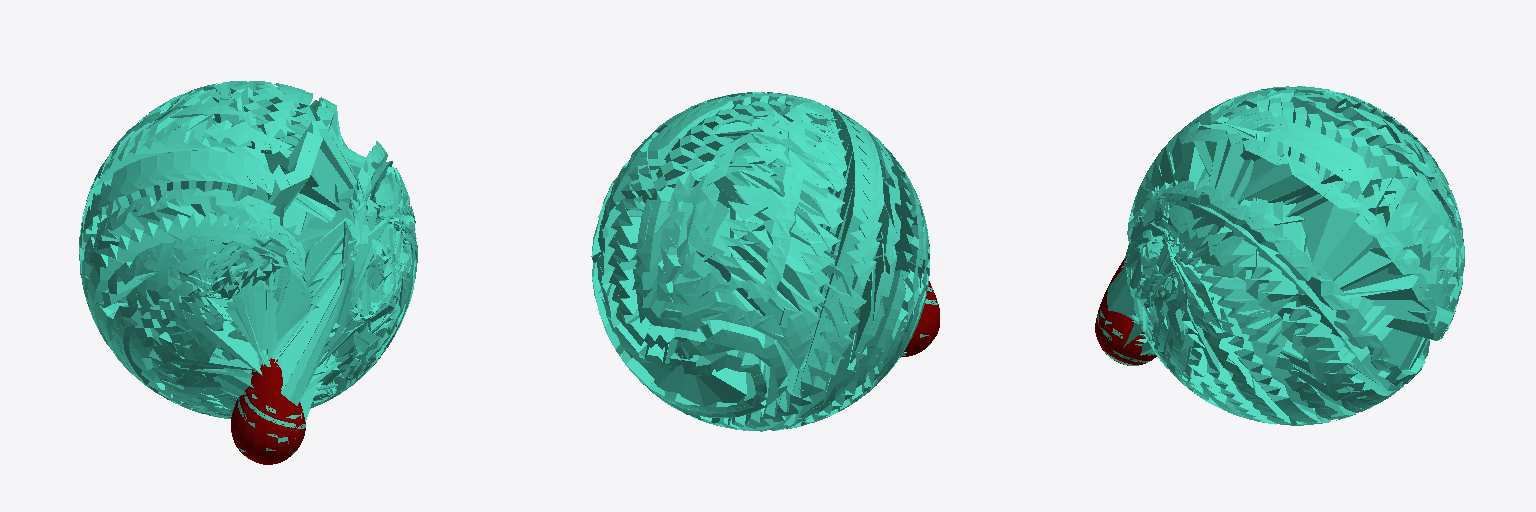
The model's file is cry.obj.
3 renders of one model, left to right at view 1: azimuth 30°, elevation 25°; view 2: azimuth 150°, elevation 25°; view 3: azimuth 270°, elevation 25°, orthographic.
Visible parts, largest first — view 1: Group12814, Group33367; view 2: Group12814, Group33367; view 3: Group12814, Group33367.
Part boxes in pixels (x1,y1,x2,y2): Group12814: (79, 81, 417, 455); Group33367: (231, 358, 305, 464); Group12814: (591, 92, 937, 431); Group33367: (901, 281, 939, 356); Group12814: (1097, 86, 1464, 425); Group33367: (1095, 257, 1156, 365).
Size of the model in its own units: 20.6 by 20.63 by 22.45.